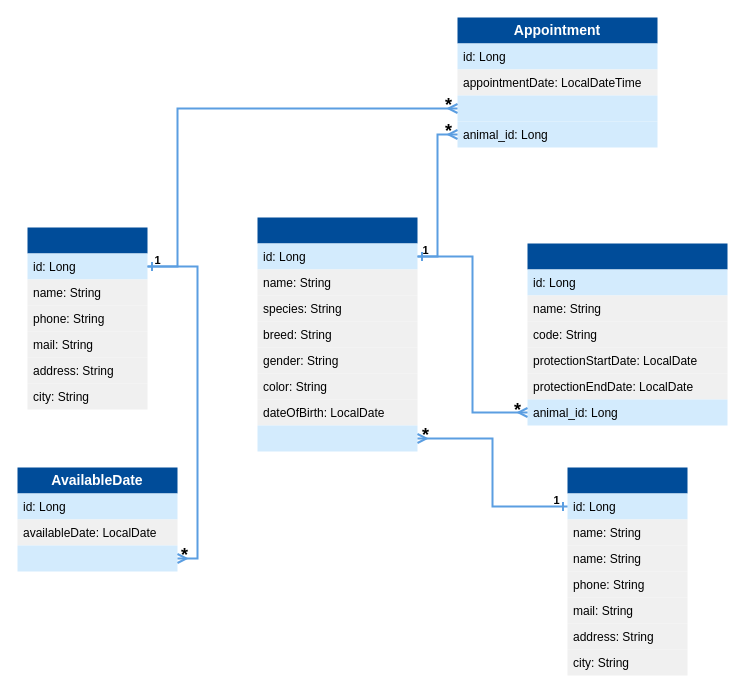
Some shapes in this 744 by 695 pixel diagram are drawn without their labels. Here are the shapes that lost their labels. From the top down, the box of each, then its label:
(457, 95, 657, 121): doctor_id: Long
(27, 227, 147, 409): Doctor
(257, 217, 417, 451): Animal
(527, 243, 727, 425): Vaccine
(257, 425, 417, 451): customer_id: Long
(17, 545, 177, 571): doctor _id: Long
(567, 467, 687, 675): Customer
